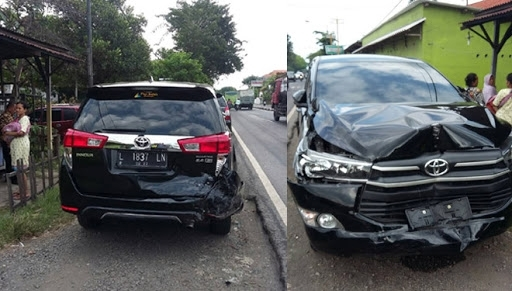plate: (117, 149, 166, 168)
